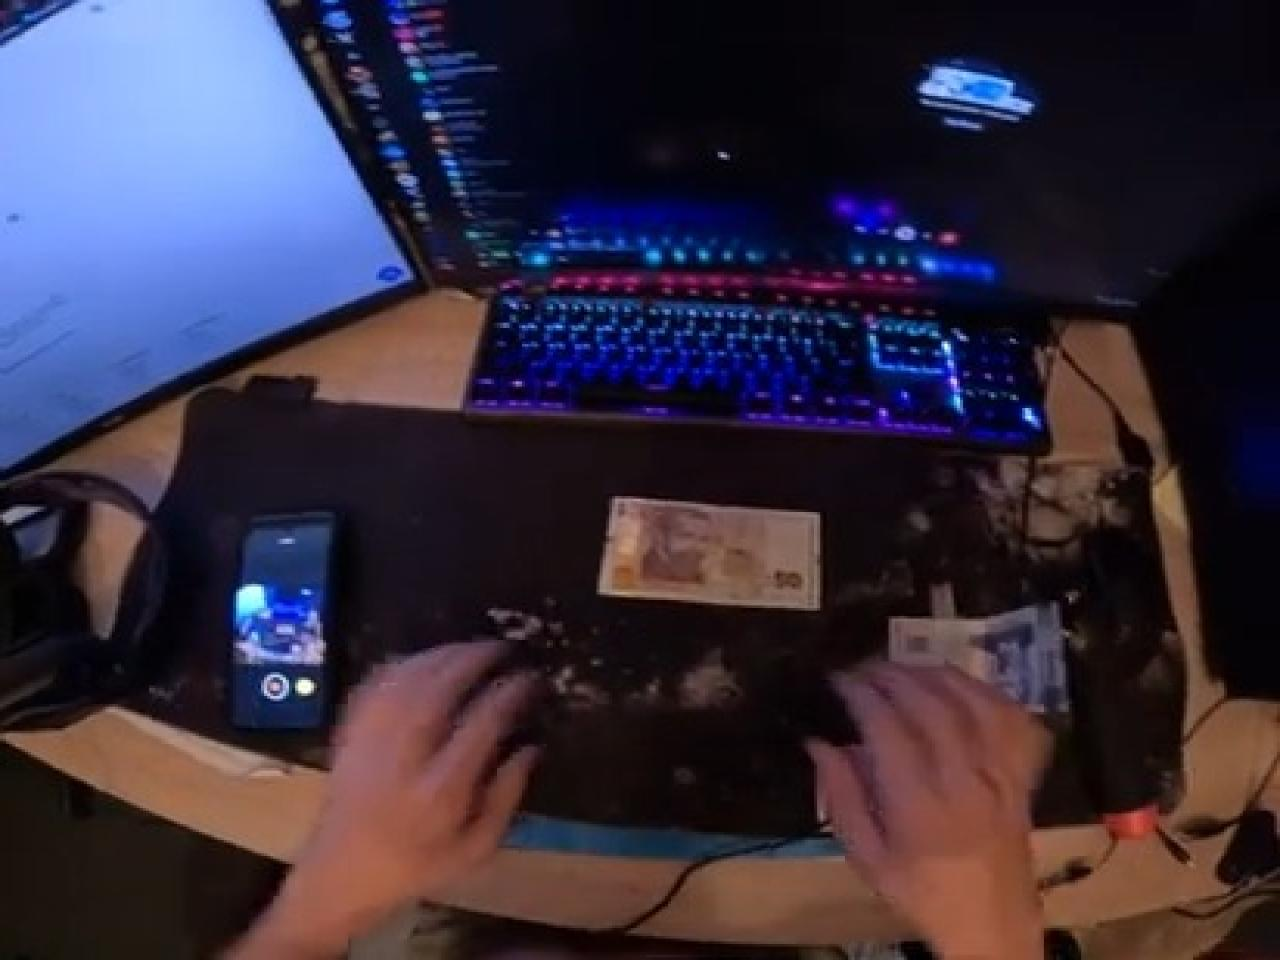50leva: (600, 496, 820, 613)
